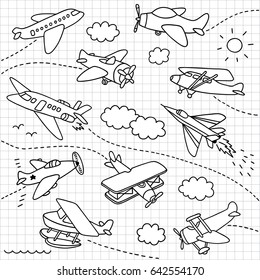airplane: (6, 74, 92, 141), (159, 102, 235, 158), (99, 150, 168, 209), (38, 198, 114, 250), (172, 201, 241, 255), (133, 2, 210, 48), (10, 9, 86, 54), (76, 48, 137, 91), (16, 158, 79, 199), (169, 66, 245, 99)
cloud: (176, 174, 216, 201), (99, 105, 140, 129), (129, 115, 166, 140), (134, 221, 167, 247), (85, 21, 121, 43), (147, 47, 172, 66)
sun: (216, 27, 255, 64)
